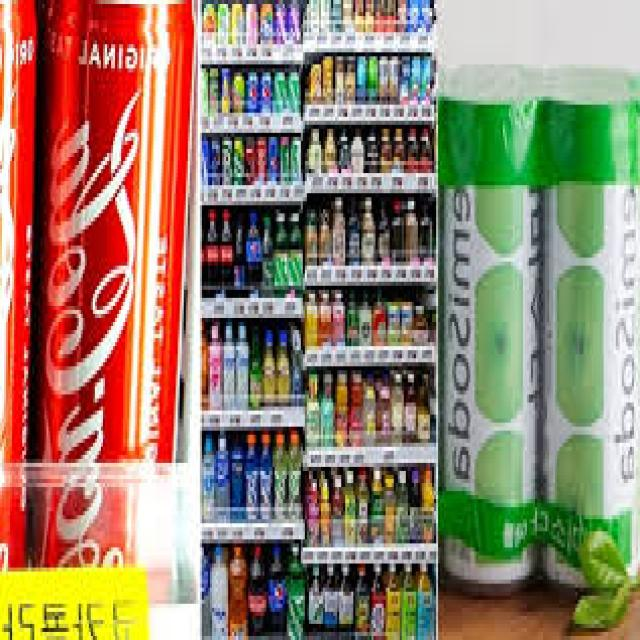Coca-Cola: (0, 0, 200, 620)
